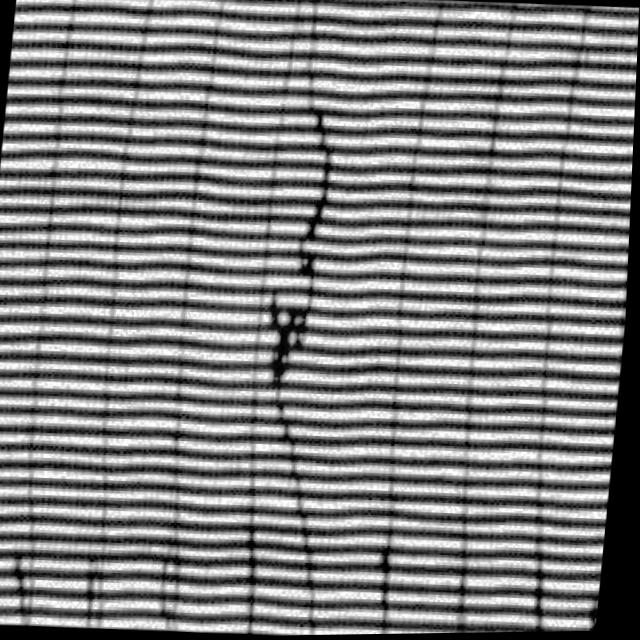Stitch: (248, 46, 378, 493)
